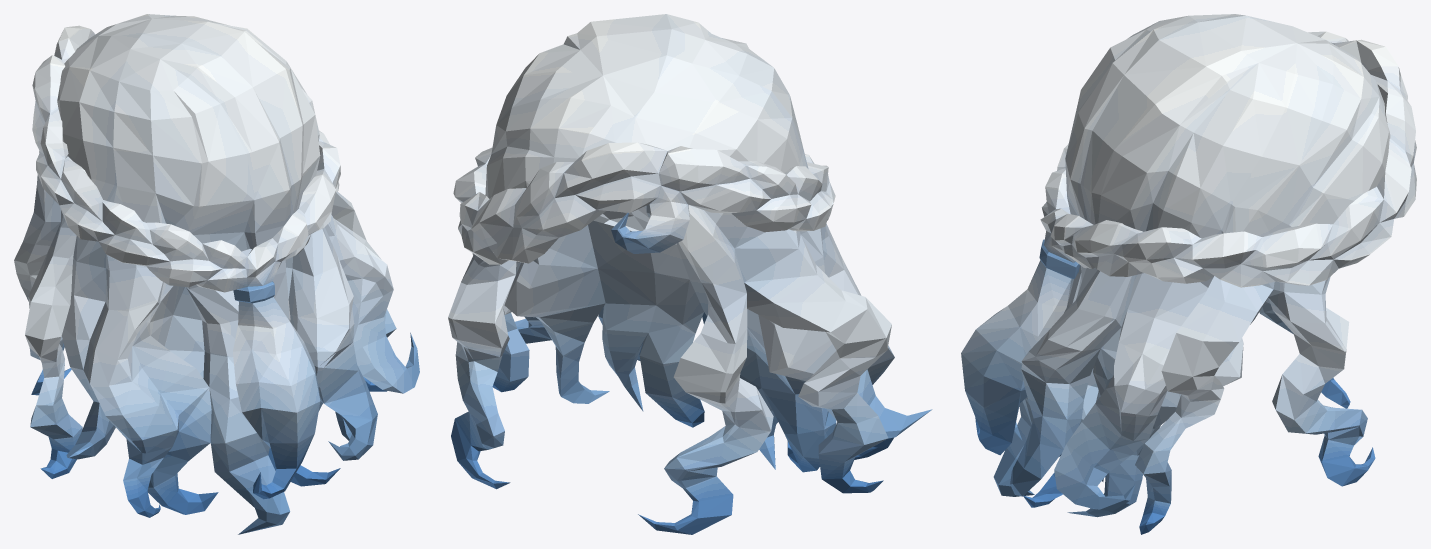
File: CharSkyKid_Hair_NatureWater.glb
3 views of the same model, side by side, from view 1: azimuth 30°, elevation 25°; view 2: azimuth 150°, elevation 25°; view 3: azimuth 270°, elevation 25° (orthographic). The views are drawn at different scales.
Visible parts, largest first — view 1: CharSkyKid_Hair_NatureWater; view 2: CharSkyKid_Hair_NatureWater; view 3: CharSkyKid_Hair_NatureWater.
Part boxes in pixels (x1,y1,x2,y2): CharSkyKid_Hair_NatureWater: [14, 14, 419, 534]; CharSkyKid_Hair_NatureWater: [448, 14, 932, 534]; CharSkyKid_Hair_NatureWater: [961, 14, 1416, 534].
Bounding box in the file's own units: 4.49 × 4.95 × 4.24.
Materials: 1 (1 with a texture image).
